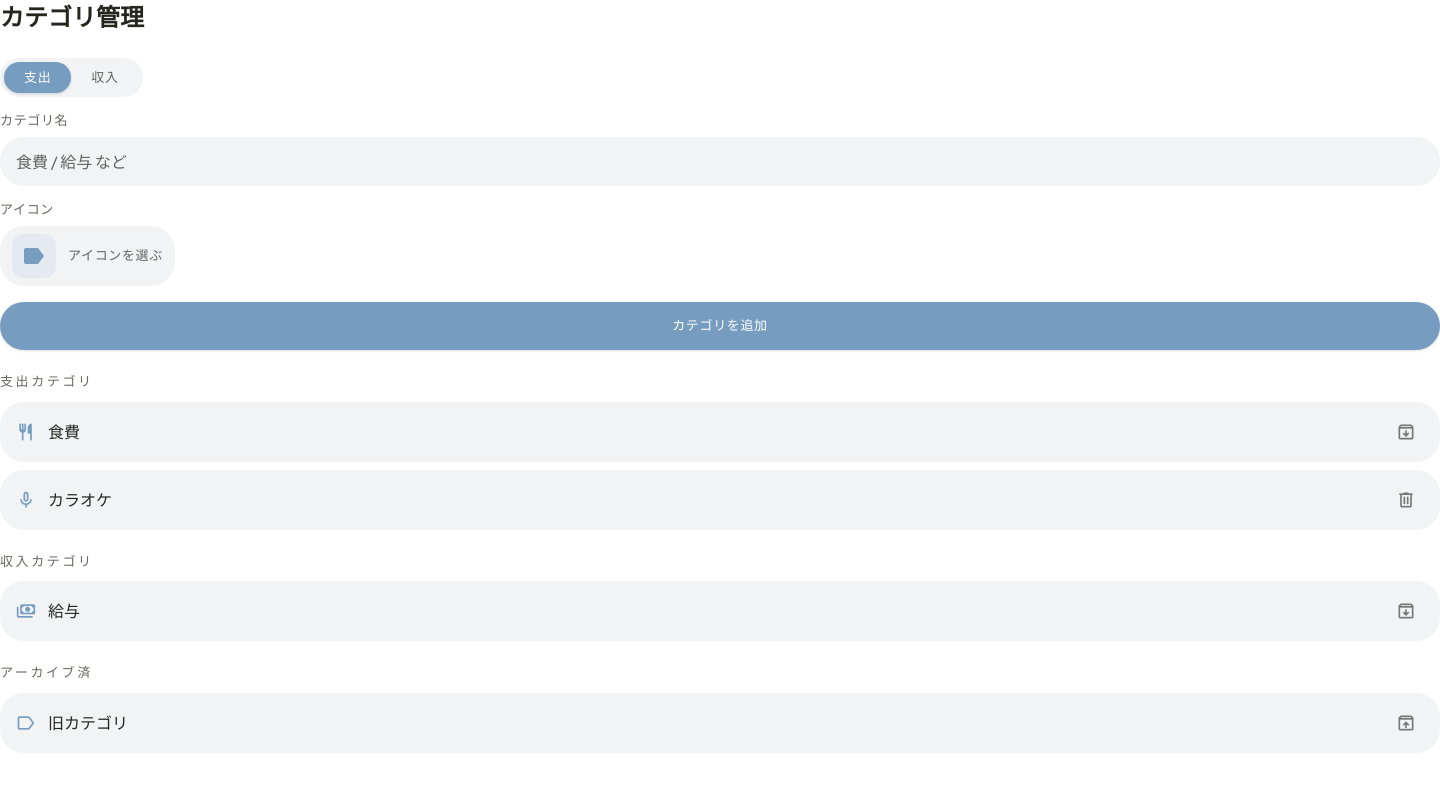
CategoryManager 統合 › 使用状況を取得できないときは削除ボタンを出さず、エラーを表示する
Click the button named "カラオケ を削除": (1406, 500) [1388, 482, 1424, 518]
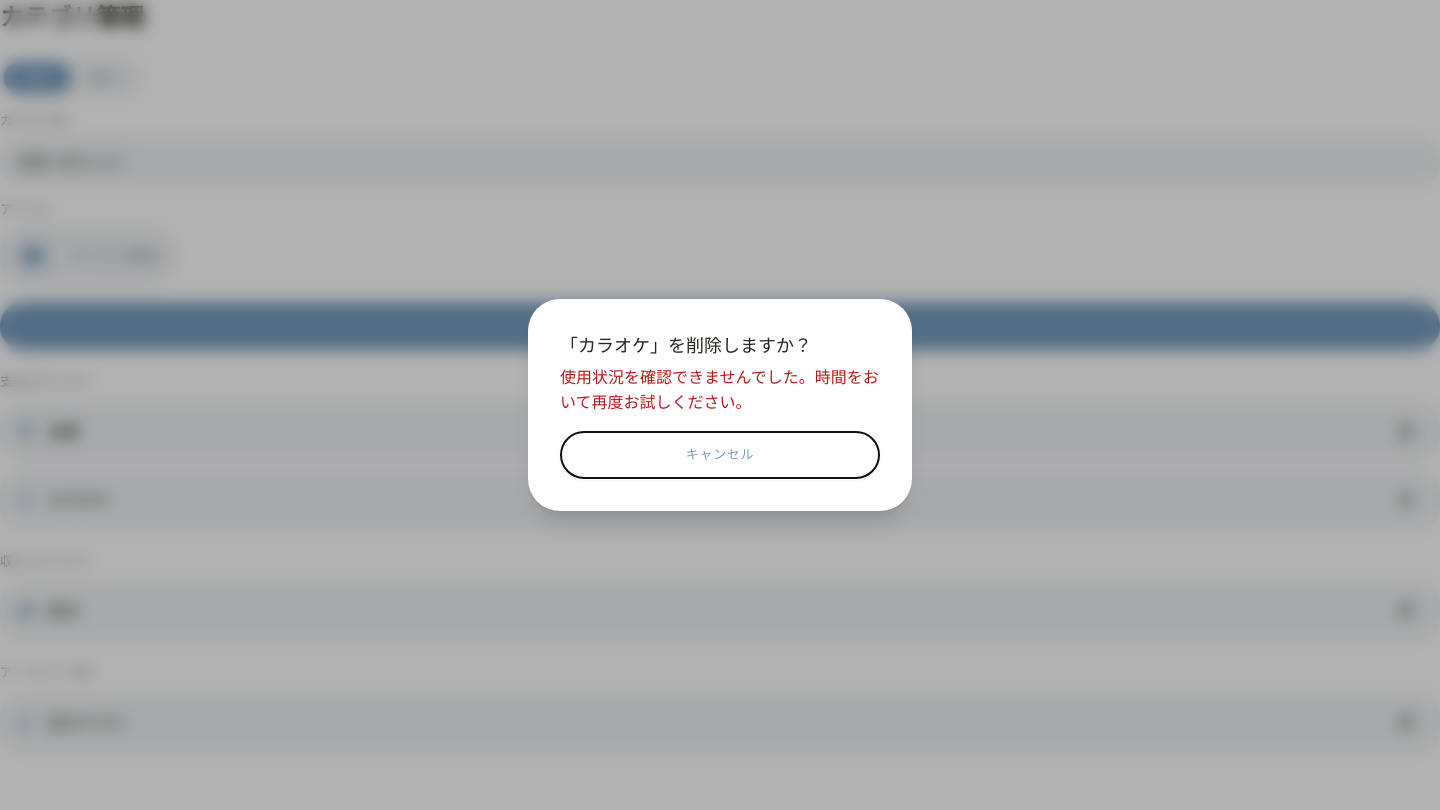
Expected: the text "使用状況を確認できませんでした。時間をおいて再度お試しください。" is shown, [560, 364, 880, 415]
